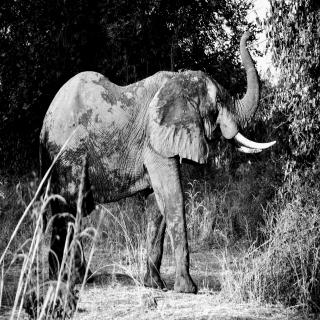Elephant: (38, 23, 282, 293)
